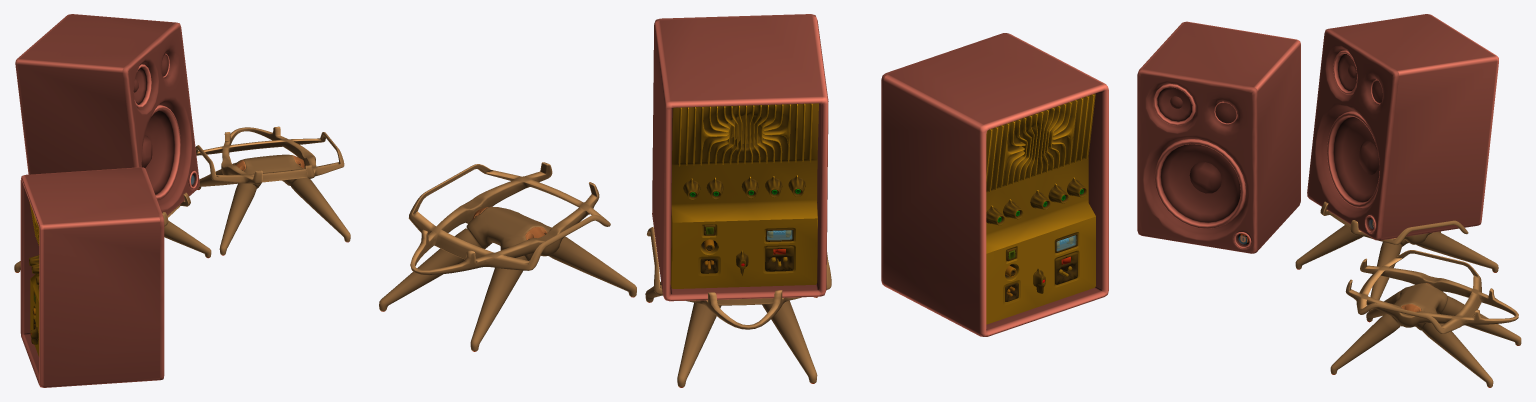
The model's file is speaker.fbx.
The picture shows the model from 3 angles, left to right: view 1: azimuth 30°, elevation 25°; view 2: azimuth 150°, elevation 25°; view 3: azimuth 270°, elevation 25°; orthographic projection. The views are drawn at different scales.
Visible parts, largest first — view 1: speakerBody_2, speakerBody, standLegs_2, standTable_2, panel_2, standLegs; view 2: speakerBody_2, panel, speakerBody, panel_2, standTable_2, standLegs_2, standLegs, standTable; view 3: speakerBody, speakerBody_2, standTable_2, standLegs_2, standLegs, standTable.
Boxes of the visible parts, bbox=[...] form: speakerBody_2: bbox=[20, 167, 164, 387]; speakerBody: bbox=[15, 14, 199, 215]; standLegs_2: bbox=[197, 154, 350, 255]; standTable_2: bbox=[195, 126, 344, 184]; panel_2: bbox=[29, 201, 39, 356]; standLegs: bbox=[14, 220, 211, 272]; speakerBody_2: bbox=[881, 33, 1108, 336]; panel: bbox=[670, 103, 818, 288]; speakerBody: bbox=[652, 14, 828, 301]; panel_2: bbox=[986, 93, 1095, 324]; standTable_2: bbox=[408, 162, 610, 275]; standLegs_2: bbox=[379, 206, 636, 351]; standLegs: bbox=[645, 281, 817, 387]; standTable: bbox=[647, 227, 831, 329]; speakerBody: bbox=[1307, 14, 1498, 240]; speakerBody_2: bbox=[1137, 21, 1300, 253]; standTable_2: bbox=[1345, 250, 1518, 333]; standLegs_2: bbox=[1330, 283, 1521, 387]; standLegs: bbox=[1295, 225, 1498, 311]; standTable: bbox=[1320, 201, 1468, 244].
Size of the model in its own units: 526 by 283 by 420.
